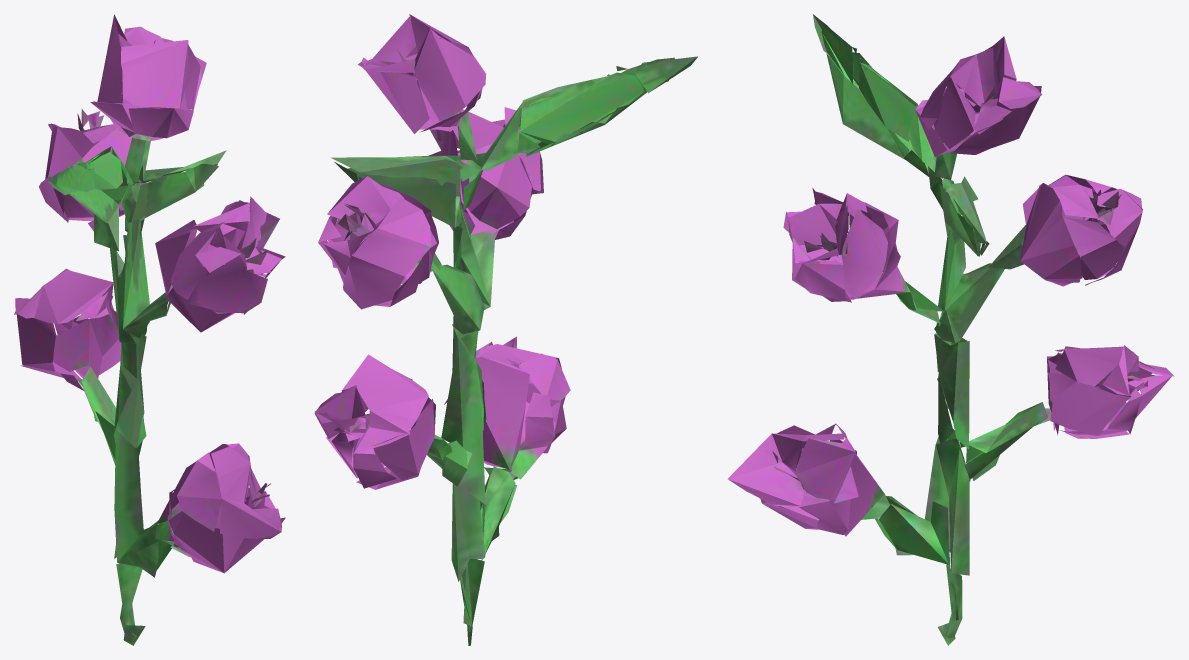
The model's file is loc_sa_nat_bougainvillea.glb.
3 views of the same model, side by side, from view 1: azimuth 30°, elevation 25°; view 2: azimuth 150°, elevation 25°; view 3: azimuth 270°, elevation 25° (orthographic). The views are drawn at different scales.
Parts seen in each view (by area): view 1: tripo_node_6305f969-e181-4835-8812-cbef079f7fde; view 2: tripo_node_6305f969-e181-4835-8812-cbef079f7fde; view 3: tripo_node_6305f969-e181-4835-8812-cbef079f7fde.
Part boxes in pixels (x1,y1,x2,y2): tripo_node_6305f969-e181-4835-8812-cbef079f7fde: (14,14,285,645); tripo_node_6305f969-e181-4835-8812-cbef079f7fde: (314,14,697,645); tripo_node_6305f969-e181-4835-8812-cbef079f7fde: (728,14,1174,645).
Bounding box in the file's own units: 0.3396 × 0.744 × 0.4909.
1 material, 1 textured.
